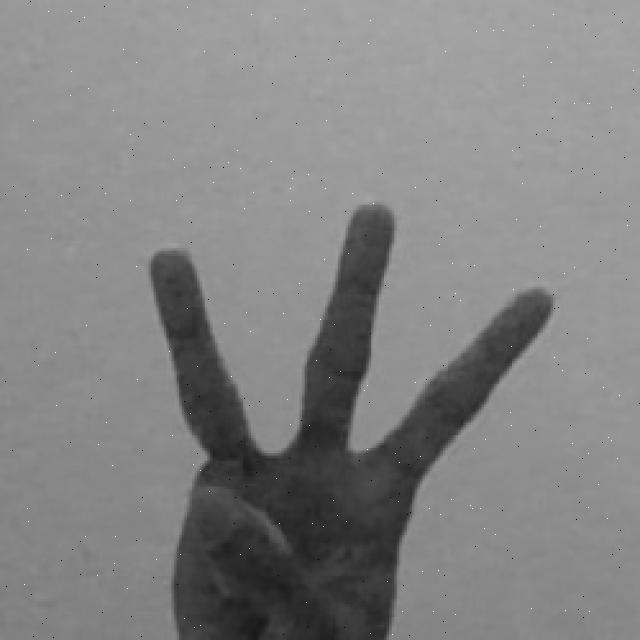W: (148, 194, 558, 640)
